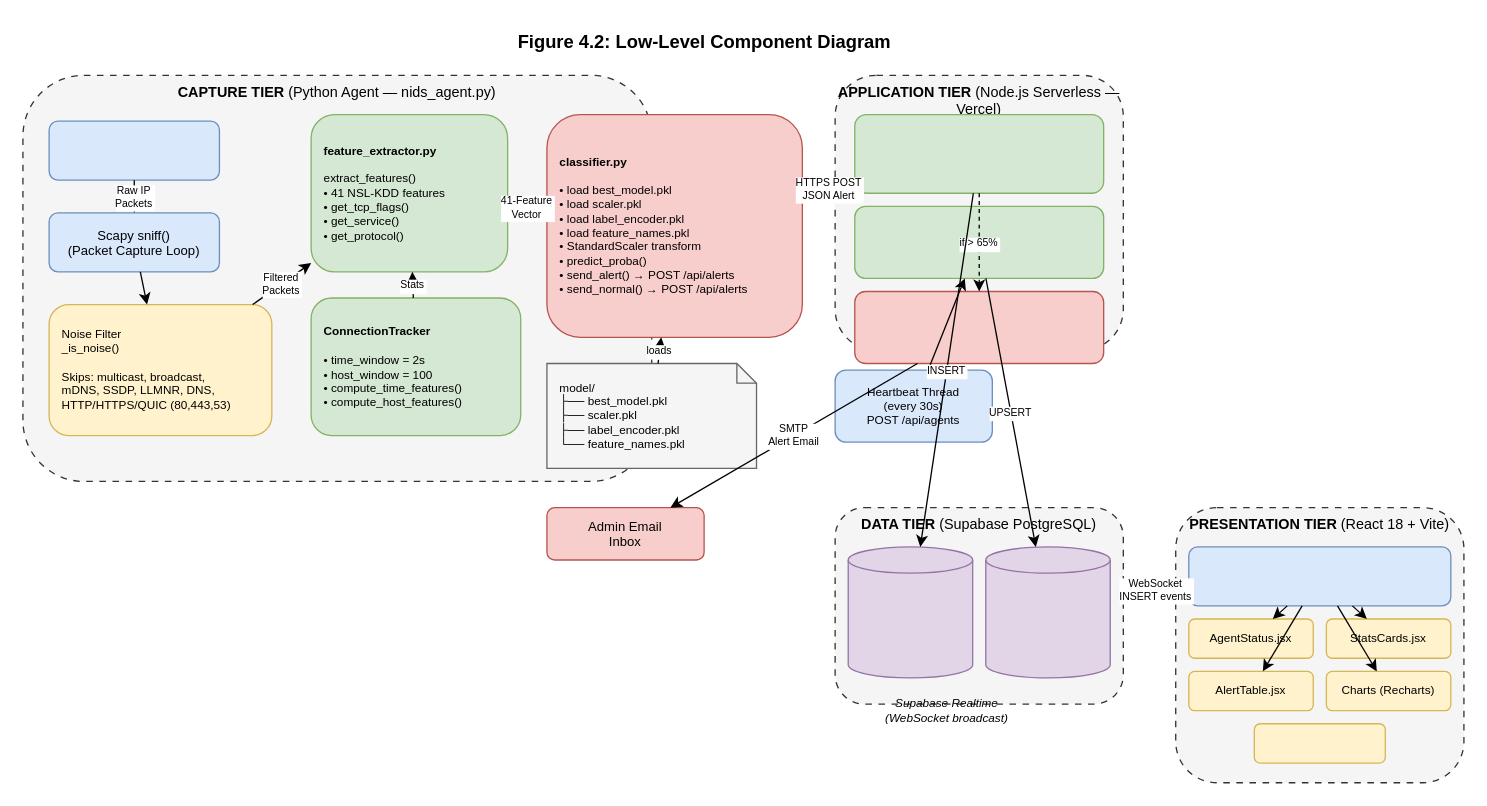
Some shapes in this 1487 by 806 pixel diagram are drawn without their labels. Here are the shapes that lost their labels. From the top down, the centre of each, then its label:
At point 133,150: "Network Interface (Promiscuous Mode)".
At point 978,153: "alerts.js POST: validate → insert → email GET: query with filters".
At point 978,241: "agents.js POST: upsert heartbeat GET: list with online/offline".
At point 978,327: "emailService.js Nodemailer SMTP (Gmail / Office 365) Threshold: > 65%".
At point 1319,576: "App.jsx (Main Component) Supabase Realtime subscription".
At point 910,612: "alerts id, timestamp, src_ip, dst_ip, prediction, confidence, agent_name...".
At point 1047,612: "agents id, agent_name, hostname, ip_address, last_heartbeat...".
At point 1319,742: "supabase.js (Client Config)".
